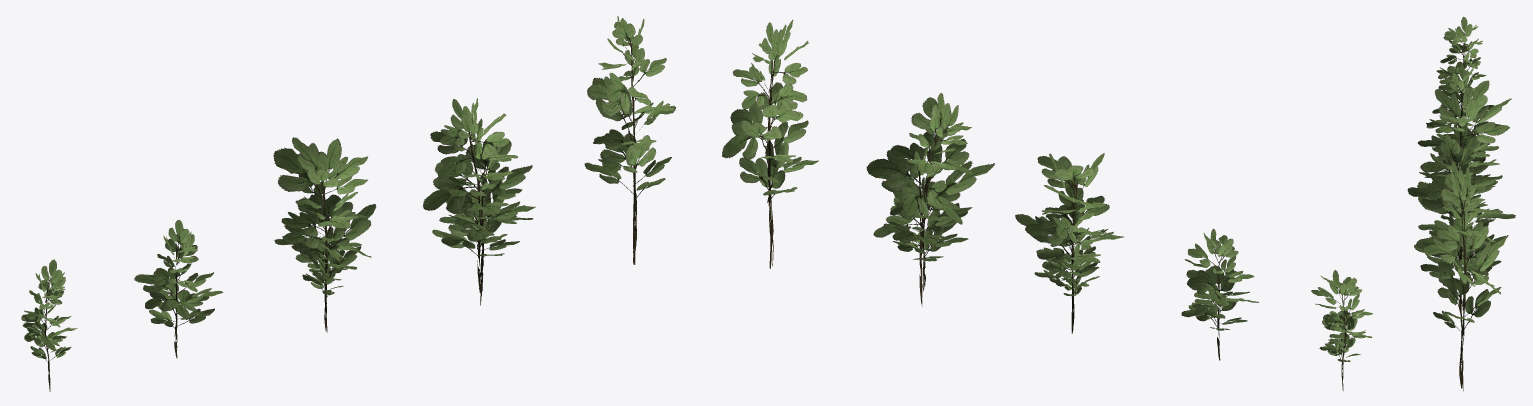
File: Sapling_1A1.fbx
3 renders of one model, left to right at view 1: azimuth 30°, elevation 25°; view 2: azimuth 150°, elevation 25°; view 3: azimuth 270°, elevation 25°, orthographic. The views are drawn at different scales.
Parts seen in each view (by area): view 1: Sapling_1A4.002, Sapling_1A4, Sapling_1A3, Sapling_1A3.002, Sapling_1A4.001, Sapling_1A5, Sapling_1A3.001, Sapling_1A5.001, Sapling_1A5.002, Sapling_1A2.002, Sapling_1A2, Sapling_1A2.001 (+3 smaller); view 2: Sapling_1A4.002, Sapling_1A4, Sapling_1A4.001, Sapling_1A5, Sapling_1A3.002, Sapling_1A3, Sapling_1A5.002, Sapling_1A5.001, Sapling_1A3.001, Sapling_1A2, Sapling_1A2.002, Sapling_1A2.001 (+3 smaller); view 3: Sapling_1A5, Sapling_1A5.002, Sapling_1A4, Sapling_1A5.001, Sapling_1A3.002, Sapling_1A4.002, Sapling_1A4.001, Sapling_1A3, Sapling_1A3.001, Sapling_1A1.002, Sapling_1A1, Sapling_1A1.001 (+3 smaller).
Boxes of the visible parts, x1,y1,x2,y2 form: Sapling_1A4.002: (423, 99, 535, 296); Sapling_1A4: (423, 99, 535, 291); Sapling_1A3: (273, 137, 375, 327); Sapling_1A3.002: (273, 137, 375, 326); Sapling_1A4.001: (423, 98, 533, 305); Sapling_1A5: (584, 17, 675, 263); Sapling_1A3.001: (274, 141, 373, 332); Sapling_1A5.001: (585, 16, 675, 264); Sapling_1A5.002: (585, 19, 675, 230); Sapling_1A2.002: (134, 220, 223, 355); Sapling_1A2: (135, 220, 219, 347); Sapling_1A2.001: (135, 220, 214, 358); Sapling_1A4.002: (867, 94, 994, 296); Sapling_1A4: (866, 93, 994, 295); Sapling_1A4.001: (867, 93, 993, 306); Sapling_1A5: (722, 19, 818, 268); Sapling_1A3.002: (1015, 153, 1123, 322); Sapling_1A3: (1015, 153, 1123, 333); Sapling_1A5.002: (722, 20, 818, 242); Sapling_1A5.001: (722, 22, 816, 265); Sapling_1A3.001: (1015, 153, 1123, 333); Sapling_1A2: (1182, 229, 1258, 354); Sapling_1A2.002: (1181, 234, 1258, 360); Sapling_1A2.001: (1181, 228, 1258, 359); Sapling_1A5: (1421, 161, 1506, 391); Sapling_1A5.002: (1421, 162, 1506, 383); Sapling_1A4: (1408, 134, 1515, 321); Sapling_1A5.001: (1420, 162, 1506, 388); Sapling_1A3.002: (1418, 80, 1511, 216); Sapling_1A4.002: (1408, 136, 1515, 299); Sapling_1A4.001: (1408, 134, 1515, 327); Sapling_1A3: (1420, 82, 1510, 218); Sapling_1A3.001: (1418, 88, 1511, 217); Sapling_1A1.002: (1436, 17, 1485, 108); Sapling_1A1: (1436, 17, 1486, 108); Sapling_1A1.001: (1438, 17, 1485, 92).
Size of the model in its own units: 858 by 323 by 149.
